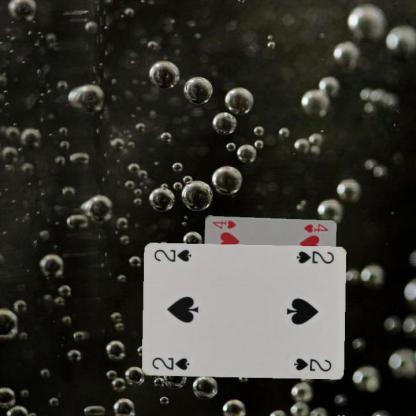2s: (149, 354, 190, 372), (294, 249, 335, 266)
4h: (301, 221, 329, 234)
